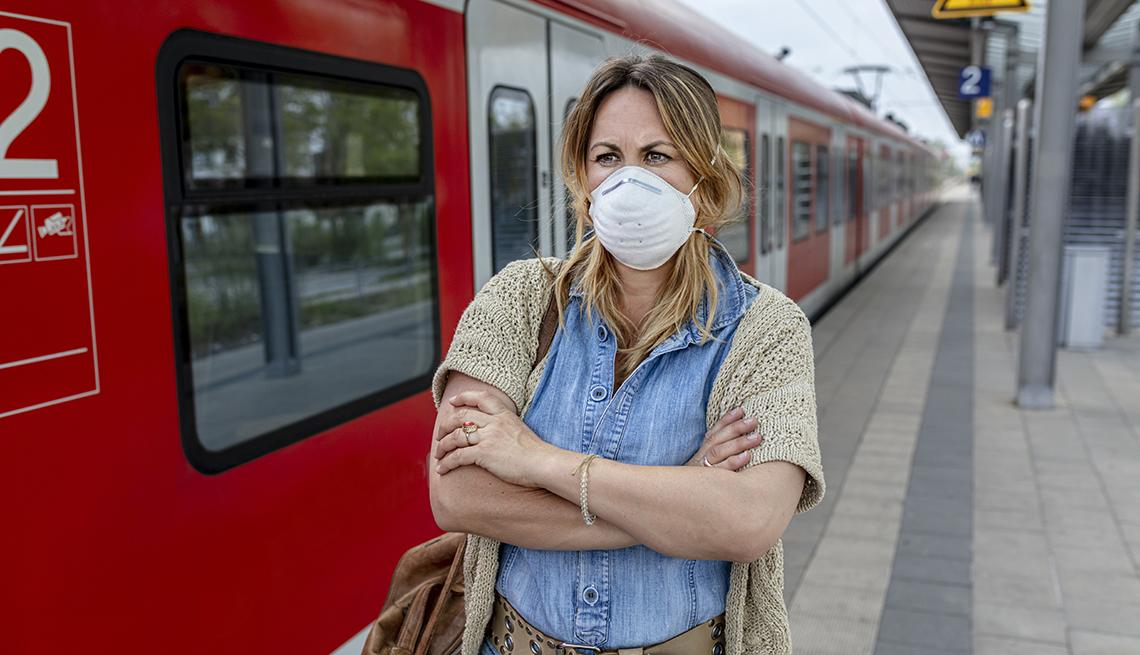mask: (582, 152, 710, 273)
